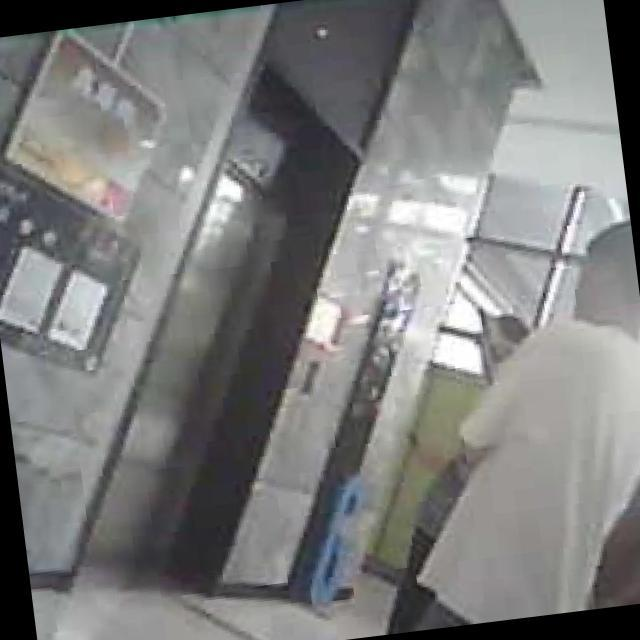person: (364, 214, 640, 631)
